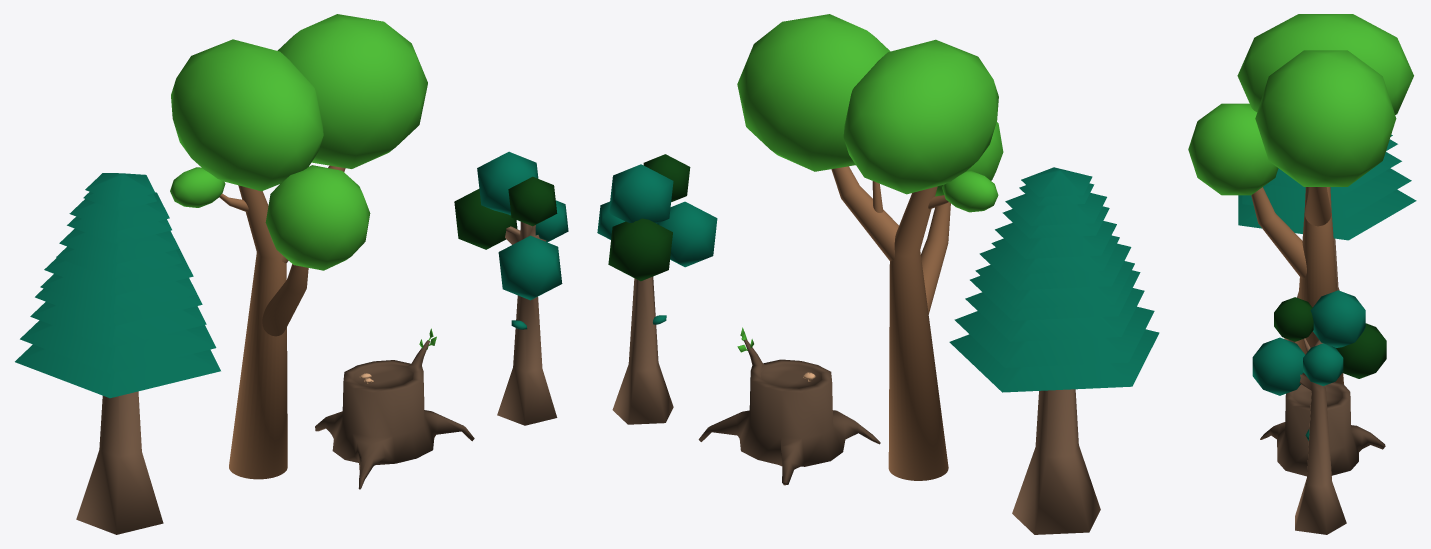
File: TREE SET.fbx
3 renders of one model, left to right at view 1: azimuth 30°, elevation 25°; view 2: azimuth 150°, elevation 25°; view 3: azimuth 270°, elevation 25°, orthographic. The views are drawn at different scales.
Parts seen in each view (by area): view 1: Cylinder, pohon, tree med, trunk; view 2: Cylinder, pohon, tree med, trunk; view 3: Cylinder, tree med, pohon, trunk.
Part boxes in pixels (x1,y1,x2,y2): Cylinder: [170, 14, 427, 479]; pohon: [15, 173, 220, 534]; tree med: [454, 151, 568, 425]; trunk: [315, 328, 474, 489]; Cylinder: [737, 14, 1003, 480]; pohon: [949, 167, 1159, 534]; tree med: [597, 154, 717, 424]; trunk: [698, 327, 880, 485]; Cylinder: [1188, 14, 1413, 384]; tree med: [1252, 290, 1386, 534]; pohon: [1238, 134, 1416, 342]; trunk: [1260, 382, 1385, 476].
Size of the model in its own units: 904 by 719 by 370.
